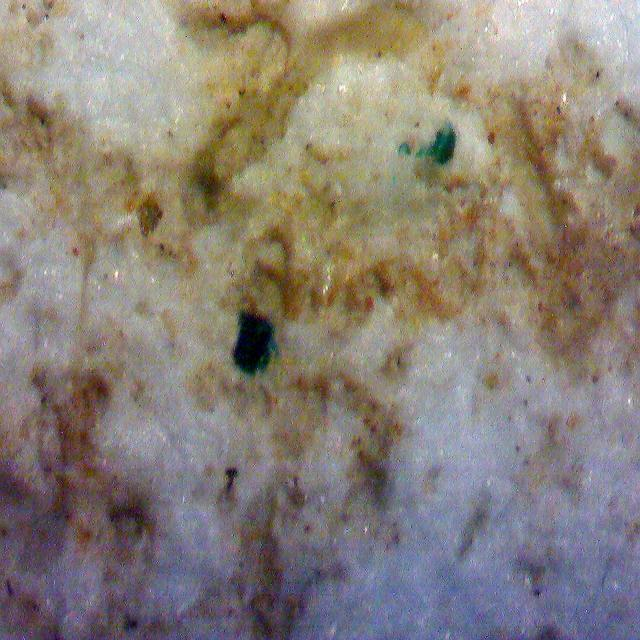microplastic: (398, 120, 455, 165)
